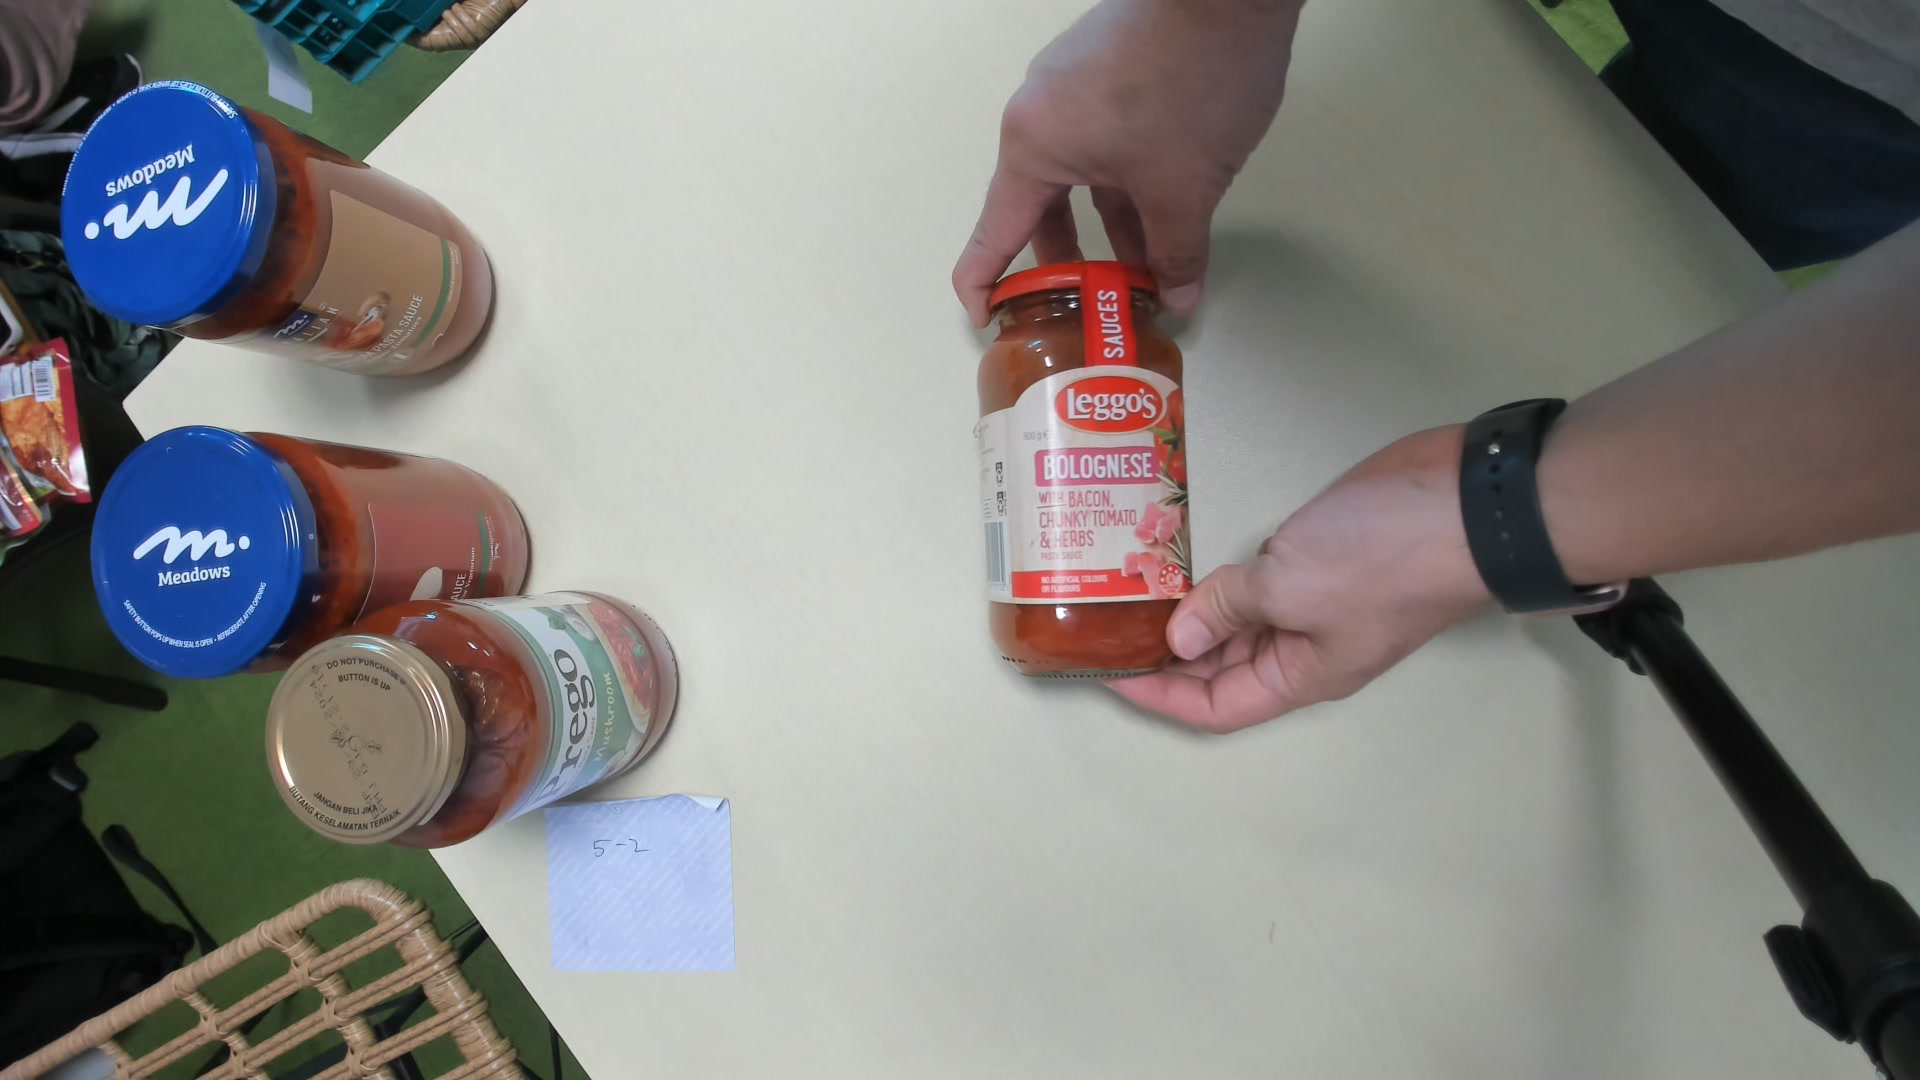PastaSauce_500-599g_Halal_NonHealthy: (978, 257, 1196, 680)
